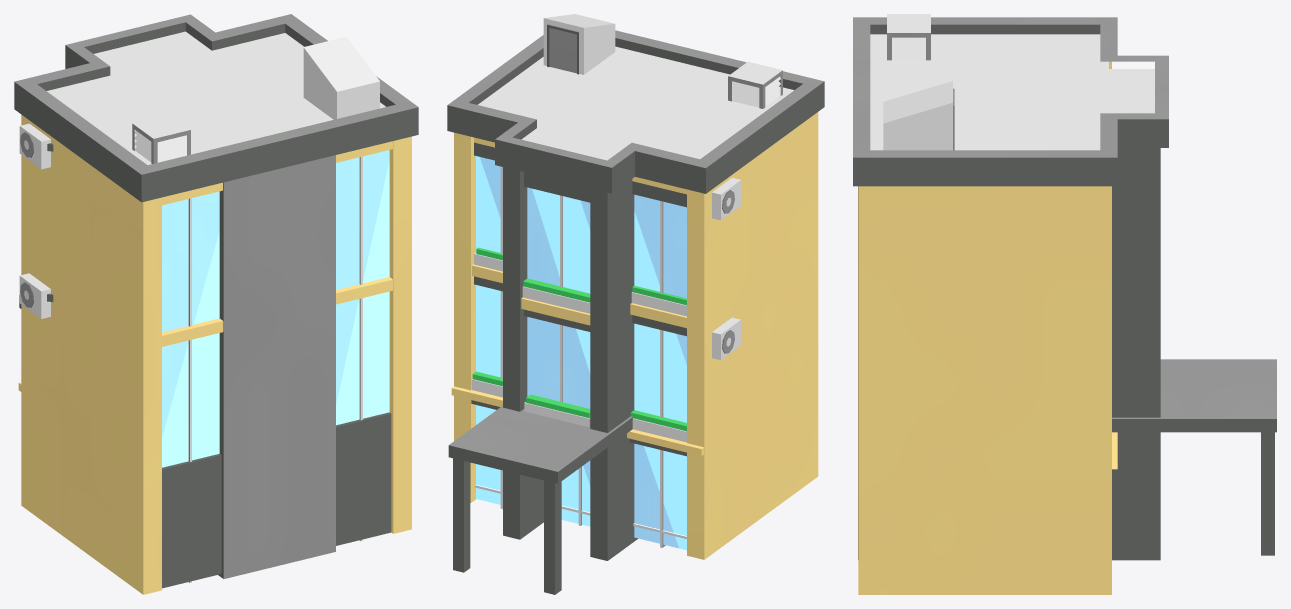
File: hotel.001.glb
3 renders of one model, left to right at view 1: azimuth 30°, elevation 25°; view 2: azimuth 150°, elevation 25°; view 3: azimuth 270°, elevation 25°, orthographic. The views are drawn at different scales.
Parts seen in each view (by area): view 1: hotel.001(Clone); view 2: hotel.001(Clone); view 3: hotel.001(Clone).
Part boxes in pixels (x1,y1,x2,y2): hotel.001(Clone): [14, 14, 418, 594]; hotel.001(Clone): [447, 14, 824, 594]; hotel.001(Clone): [853, 14, 1276, 594].
Bounding box in the file's own units: 6.1 × 9.63 × 7.61.
1 material, 1 textured.
